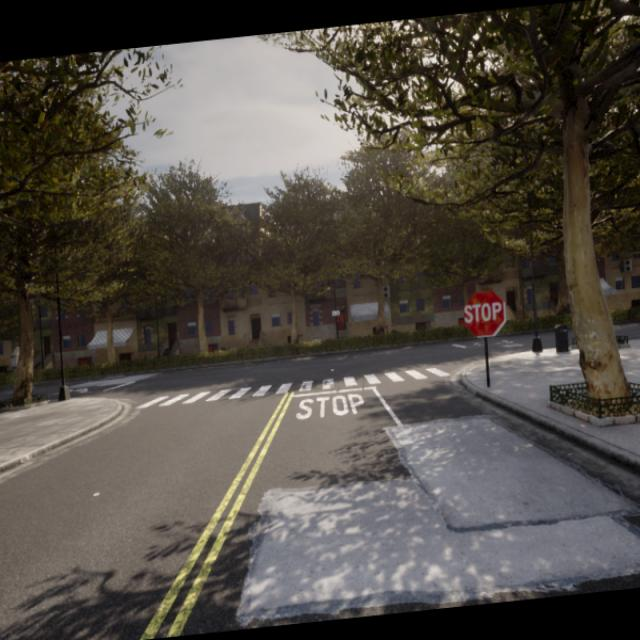stop sign: (461, 286, 507, 339), (463, 299, 502, 324)
